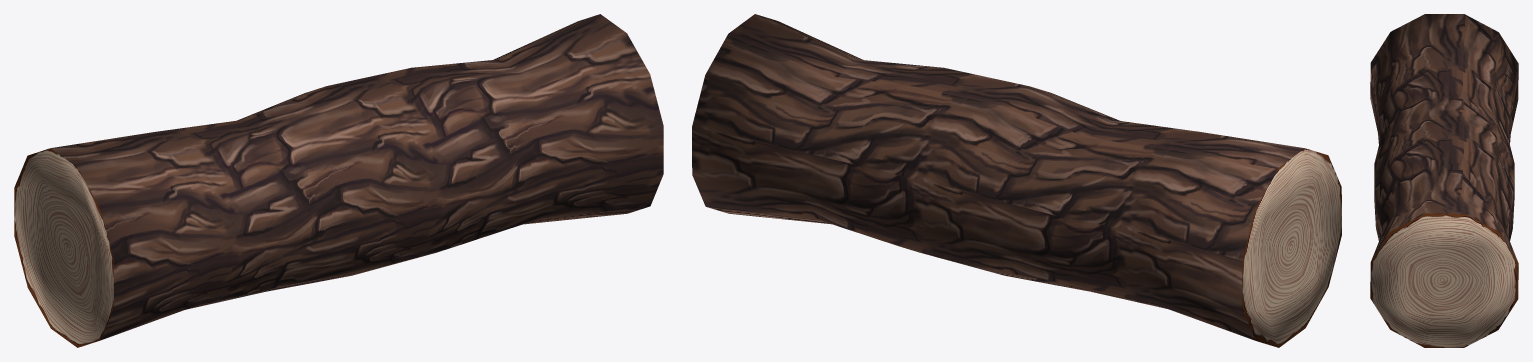
Rendered from Trunk.fbx.
3 views of the same model, side by side, from view 1: azimuth 30°, elevation 25°; view 2: azimuth 150°, elevation 25°; view 3: azimuth 270°, elevation 25° (orthographic). The views are drawn at different scales.
Parts seen in each view (by area): view 1: Trunk; view 2: Trunk; view 3: Trunk.
Part boxes in pixels (bbox=[...]): Trunk: bbox=[14, 14, 663, 347]; Trunk: bbox=[692, 14, 1341, 347]; Trunk: bbox=[1370, 14, 1518, 347].
Bounding box in the file's own units: 1862 × 584 × 584.
Materials: 2 (2 with a texture image).
